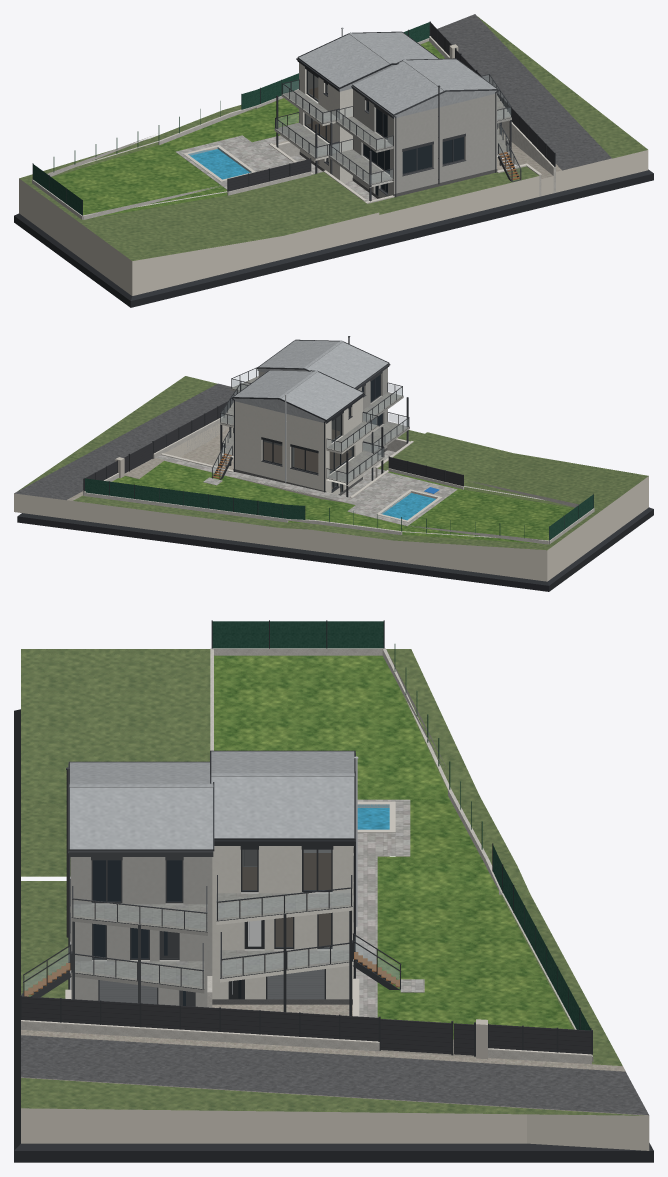
The model's file is dum_b.glb.
3 views of the same model, one above another, from view 1: azimuth 30°, elevation 25°; view 2: azimuth 150°, elevation 25°; view 3: azimuth 270°, elevation 25° (orthographic). The views are drawn at different scales.
Visible parts, largest first — view 1: Teren_trava_okoli, Teren_rez, Teren_trava, A_omitka, Teren_podstava, Teren_asfalt, A_strecha, B_ext_strecha, Teren_beton, A_antracit, B_ext_omitka, Teren_dlazba (+14 smaller); view 2: Teren_rez, Teren_trava_okoli, Teren_trava, Teren_podstava, B_ext_omitka, Teren_asfalt, B_ext_strecha, Teren_dlazba, Teren_sit_zelena, Teren_beton, A_strecha, B_ext_antracit (+13 smaller); view 3: Teren_trava_okoli, Teren_trava, Teren_asfalt, Teren_rez, Teren_podstava, Teren_plot_panel, A_strecha, B_ext_strecha, B_ext_omitka, A_omitka, Teren_beton, Teren_sit_zelena (+16 smaller).
Boxes of the visible parts, bbox=[...] form: Teren_trava_okoli: bbox=[19, 15, 647, 260]; Teren_rez: bbox=[19, 135, 648, 295]; Teren_trava: bbox=[52, 41, 444, 217]; A_omitka: bbox=[328, 89, 511, 197]; Teren_podstava: bbox=[14, 169, 653, 307]; Teren_asfalt: bbox=[437, 14, 611, 170]; A_strecha: bbox=[353, 59, 497, 118]; B_ext_strecha: bbox=[298, 32, 437, 91]; Teren_beton: bbox=[32, 37, 555, 219]; A_antracit: bbox=[329, 58, 521, 201]; B_ext_omitka: bbox=[274, 63, 352, 182]; Teren_dlazba: bbox=[176, 135, 377, 201]; Teren_rez: bbox=[14, 423, 648, 581]; Teren_trava_okoli: bbox=[17, 376, 648, 550]; Teren_trava: bbox=[112, 461, 573, 543]; Teren_podstava: bbox=[17, 507, 653, 591]; B_ext_omitka: bbox=[220, 397, 384, 494]; Teren_asfalt: bbox=[14, 383, 238, 500]; B_ext_strecha: bbox=[233, 370, 362, 423]; Teren_dlazba: bbox=[156, 450, 456, 525]; Teren_sit_zelena: bbox=[85, 478, 593, 540]; Teren_beton: bbox=[83, 418, 594, 544]; A_strecha: bbox=[258, 340, 387, 387]; B_ext_antracit: bbox=[212, 370, 384, 497]; Teren_trava_okoli: bbox=[21, 649, 643, 1115]; Teren_trava: bbox=[214, 655, 572, 1039]; Teren_asfalt: bbox=[21, 1035, 648, 1115]; Teren_rez: bbox=[21, 856, 649, 1150]; Teren_podstava: bbox=[14, 709, 653, 1162]; Teren_plot_panel: bbox=[21, 996, 591, 1055]; A_strecha: bbox=[69, 762, 213, 849]; B_ext_strecha: bbox=[211, 751, 354, 838]; B_ext_omitka: bbox=[212, 846, 353, 999]; A_omitka: bbox=[70, 857, 212, 1007]; Teren_beton: bbox=[21, 648, 593, 1064]; Teren_sit_zelena: bbox=[212, 621, 590, 1030].
Size of the model in its own units: 52.83 by 12.56 by 32.13.
Materials: 39 (17 with a texture image).
